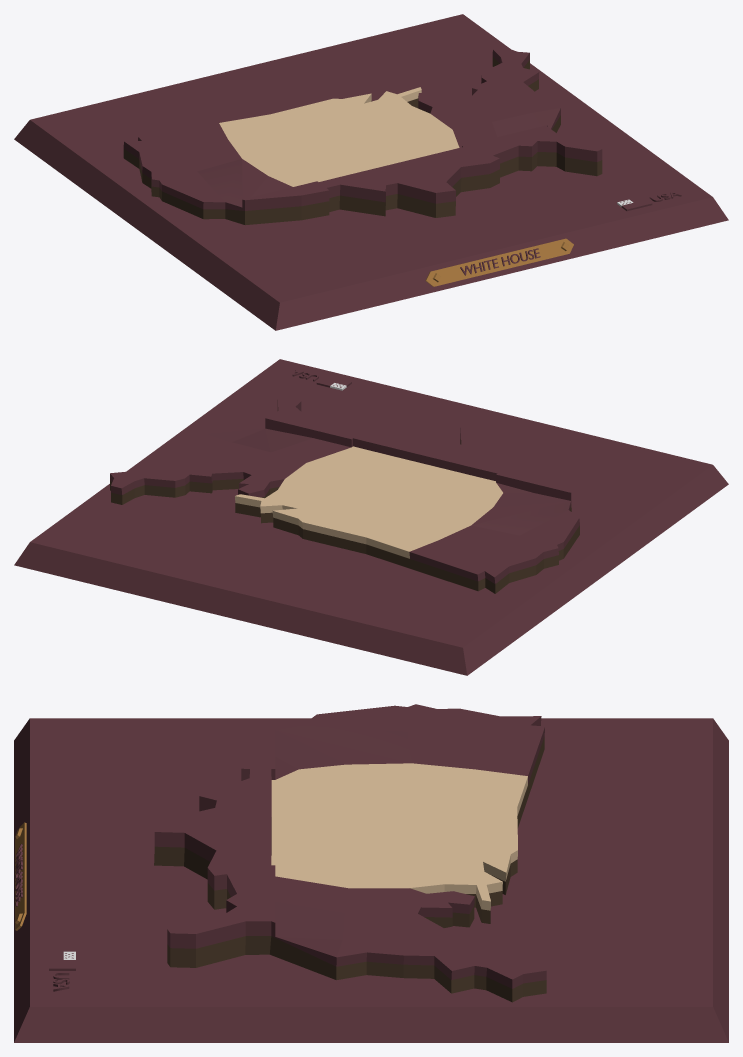
Rendered from SM_Island_WhiteHouse_Landmark.fbx.
3 renders of one model, top to bottom at view 1: azimuth 30°, elevation 25°; view 2: azimuth 150°, elevation 25°; view 3: azimuth 270°, elevation 25°, orthographic. The views are drawn at different scales.
Parts seen in each view (by area): view 1: Island_WhiteHouse_Landmark; view 2: Island_WhiteHouse_Landmark; view 3: Island_WhiteHouse_Landmark.
Part boxes in pixels (box(x1,y1,x2,y2)): Island_WhiteHouse_Landmark: box(14, 14, 728, 330); Island_WhiteHouse_Landmark: box(14, 359, 728, 675); Island_WhiteHouse_Landmark: box(14, 704, 728, 1042).
Bounding box in the file's own units: 68.5 × 6.68 × 68.5.
